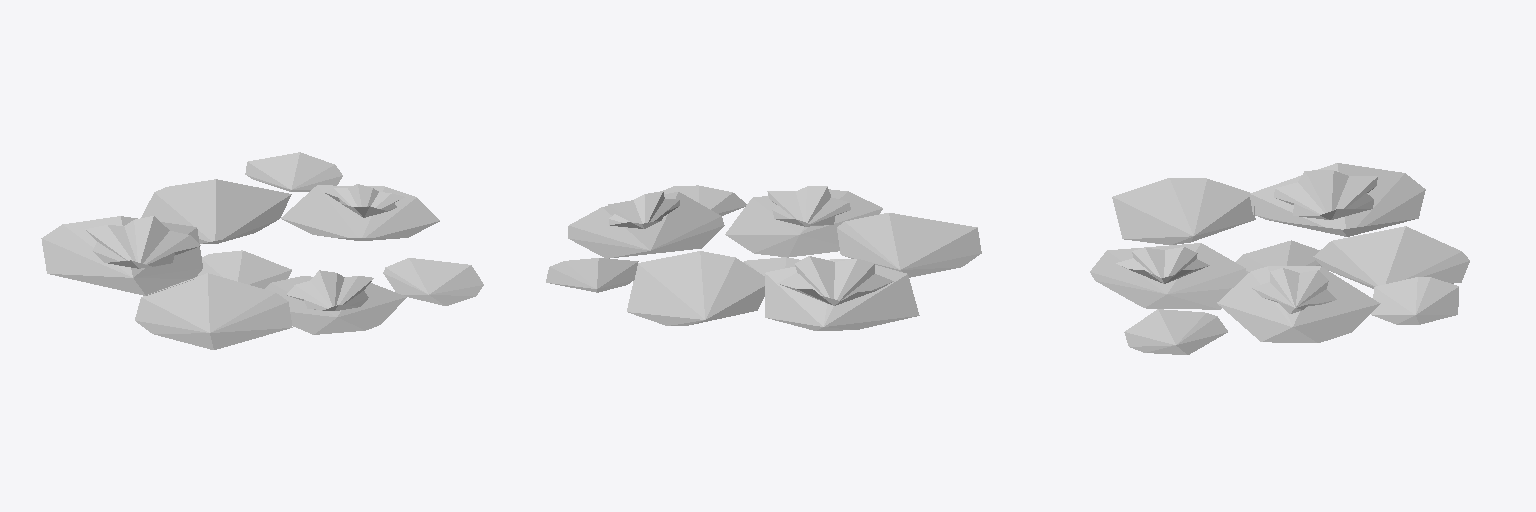
The model's file is Flower_6_2.obj.
3 views of the same model, side by side, from view 1: azimuth 30°, elevation 25°; view 2: azimuth 150°, elevation 25°; view 3: azimuth 270°, elevation 25° (orthographic).
Parts seen in each view (by area): view 1: Flower_6_2; view 2: Flower_6_2; view 3: Flower_6_2.
Part boxes in pixels (x1,y1,x2,y2): Flower_6_2: (41,152,483,349); Flower_6_2: (546,185,981,330); Flower_6_2: (1090,163,1469,354).
Bounding box in the file's own units: 0.9529 × 0.1532 × 0.8713.